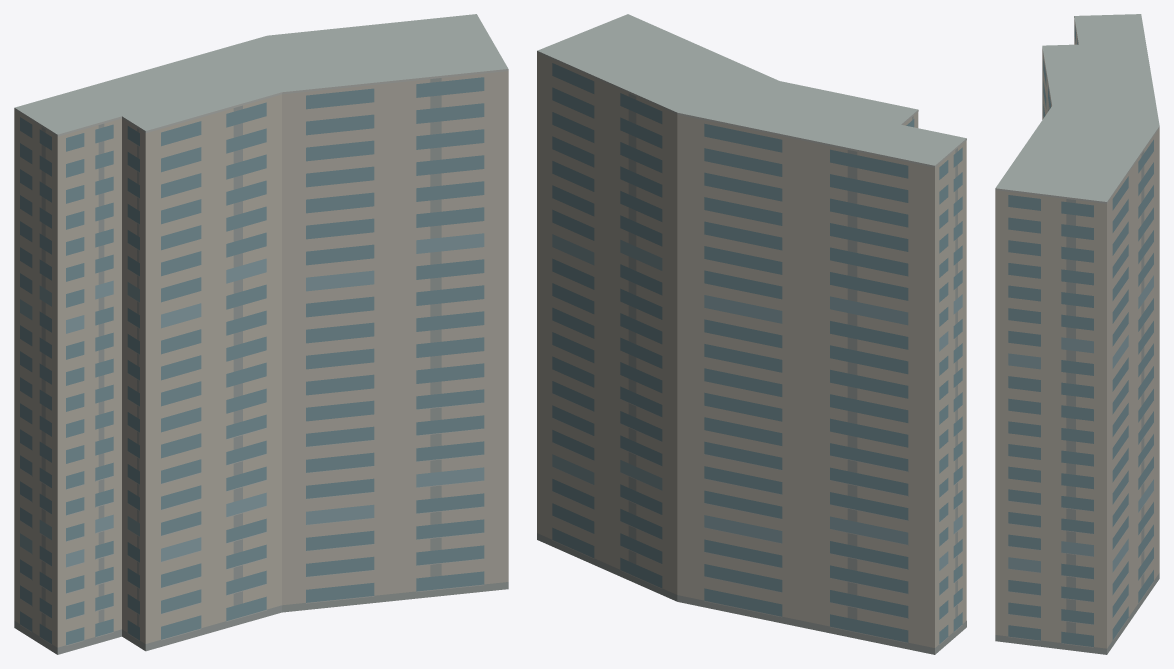
Rendered from residential-0a196510-e5ad-4f8d-b40f-51a1824b165c.glb.
3 views of the same model, side by side, from view 1: azimuth 30°, elevation 25°; view 2: azimuth 150°, elevation 25°; view 3: azimuth 270°, elevation 25° (orthographic). The views are drawn at different scales.
Visible parts, largest first — view 1: residential-0a196510-e5ad-4f8d-b40f-51a1824b165c.tmp; view 2: residential-0a196510-e5ad-4f8d-b40f-51a1824b165c.tmp; view 3: residential-0a196510-e5ad-4f8d-b40f-51a1824b165c.tmp.
Part boxes in pixels (x1,y1,x2,y2): residential-0a196510-e5ad-4f8d-b40f-51a1824b165c.tmp: (14, 14, 508, 654); residential-0a196510-e5ad-4f8d-b40f-51a1824b165c.tmp: (537, 14, 966, 654); residential-0a196510-e5ad-4f8d-b40f-51a1824b165c.tmp: (995, 14, 1159, 654).
Size of the model in its own units: 53.45 by 60 by 19.75.
